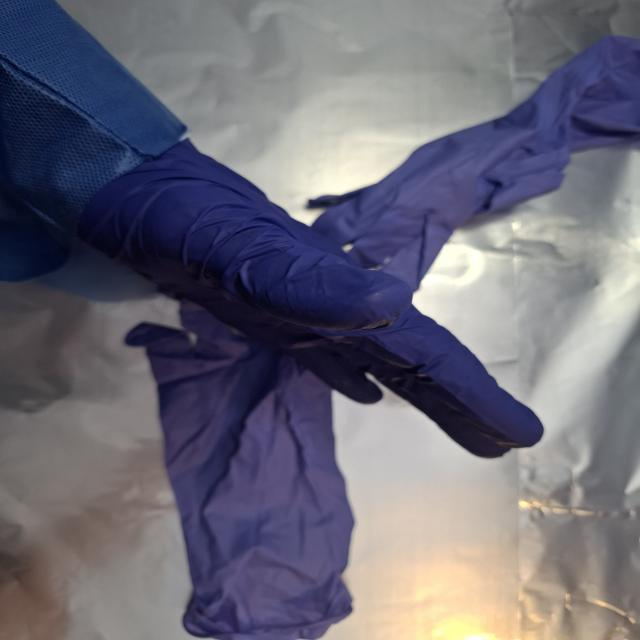glove_on: (74, 140, 548, 461)
